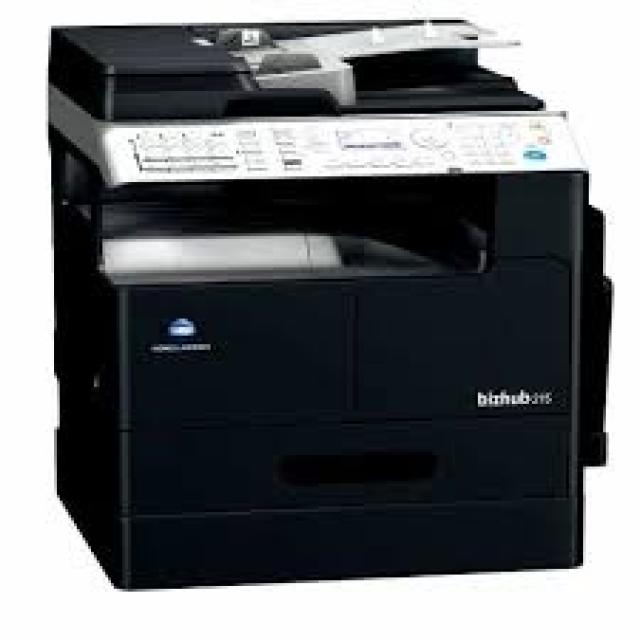printer: (46, 14, 612, 592)
